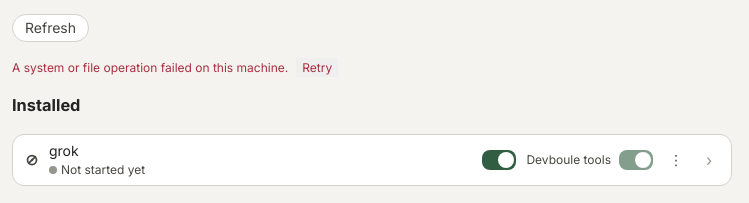
Test: tools switch wiring › ends a failed policy load in Retry instead of guessing
The image size is (749, 203).
Expected: the switch named "Devboule tools for grok" is disabled, 619,150 -> 653,170
Expected: the message "A system or file operation failed on this machine. Retry" is shown, 12,58 -> 338,83
What coordinates should you click on to do the following:
click the button "Retry"
I would click on:
 (317, 68)
Its box is 296,58 -> 338,77.
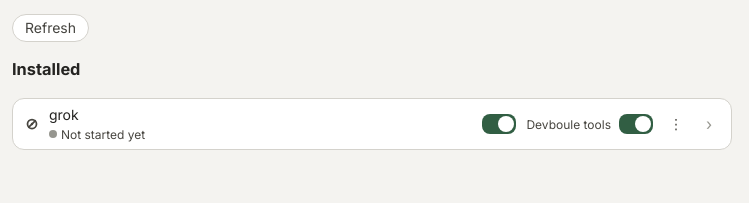
Result: the switch named "Devboule tools for grok" is enabled at 619,114 -> 653,134
